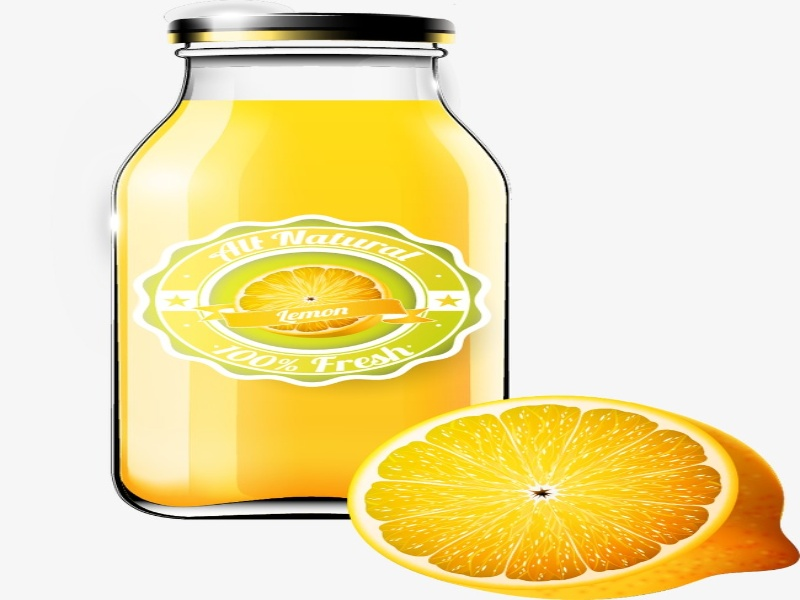Jugo de naranja: (109, 18, 512, 519)
